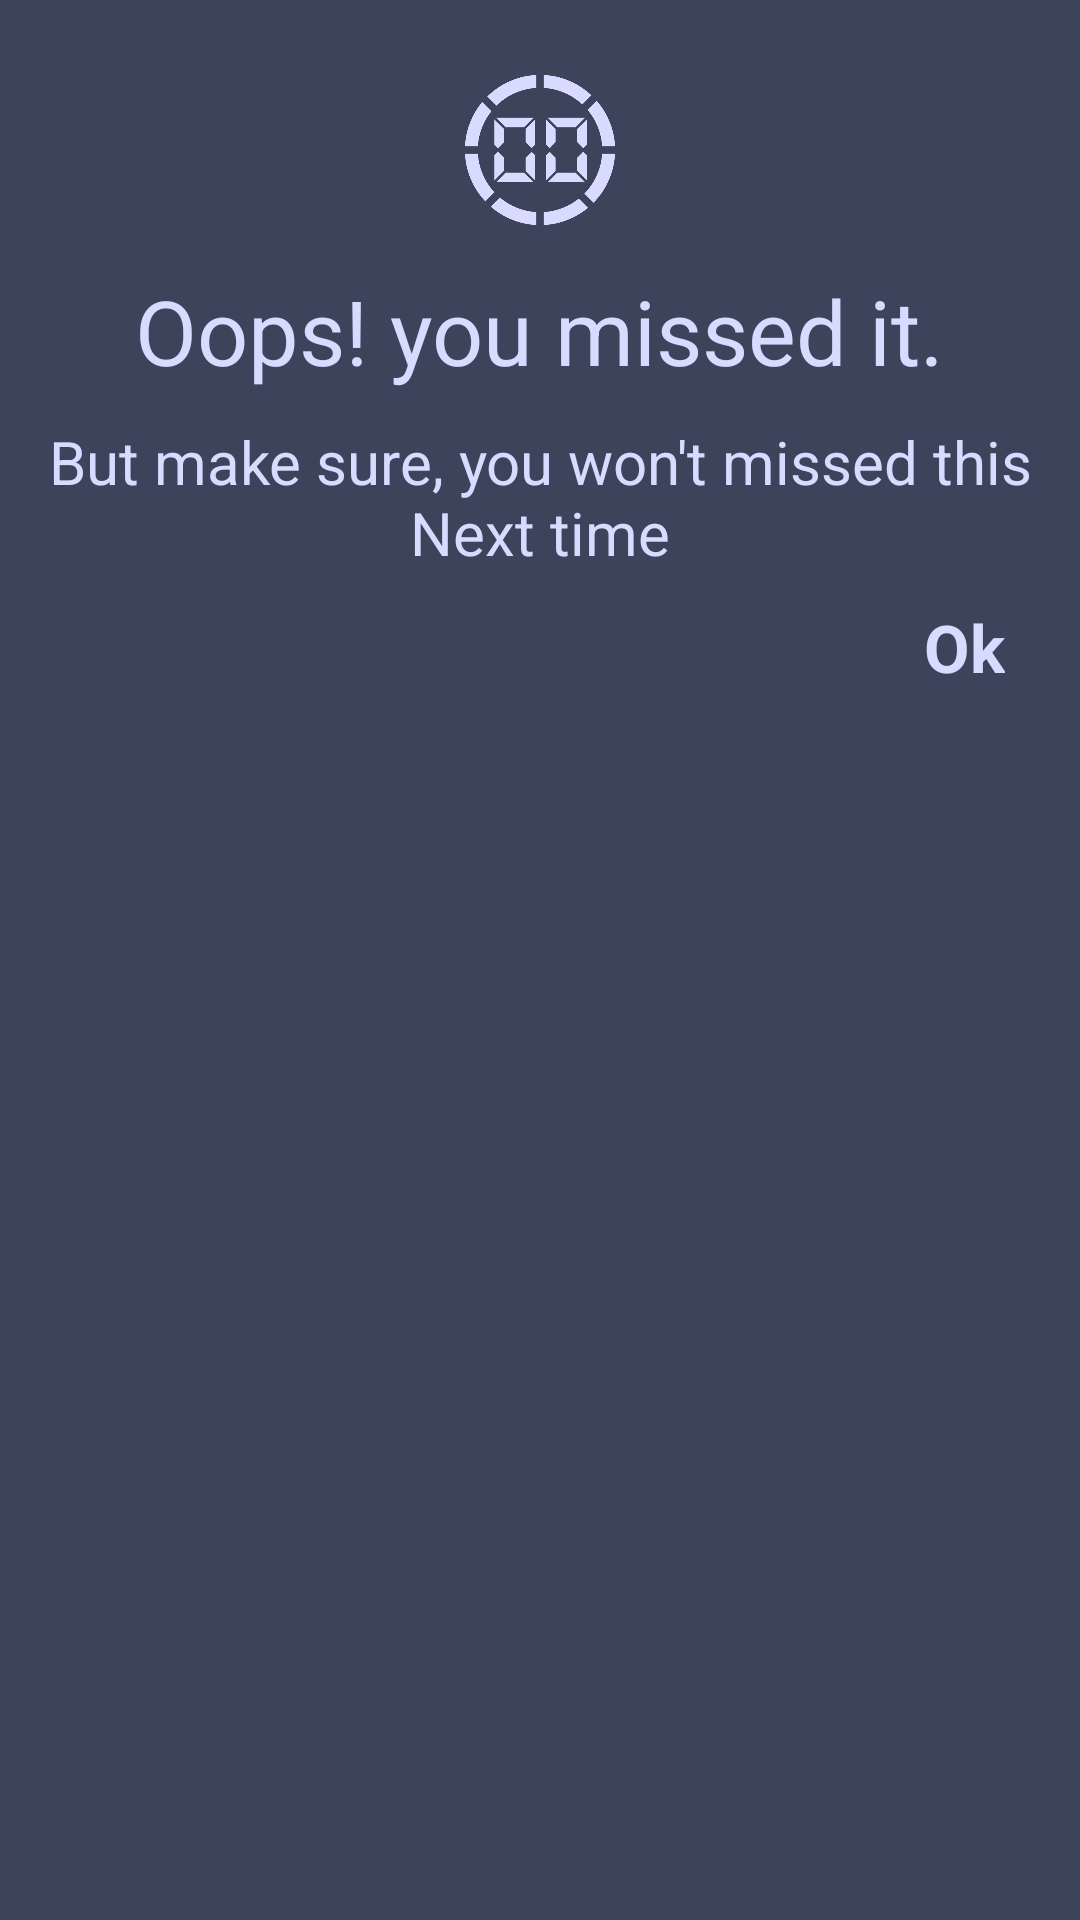

Where icons sit on this 1080w x 1920h app screen, as (x1, y1, x2, y2):
timesup: (465, 75, 615, 225)
